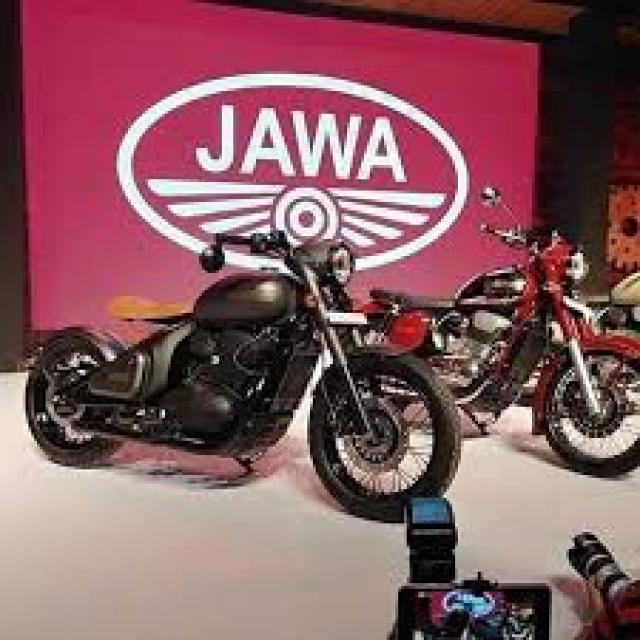bike: (23, 219, 449, 512)
